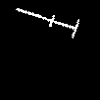double_crochet: (16, 8, 78, 37)
